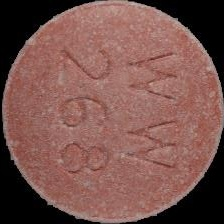51138-066: (0, 0, 224, 224)
